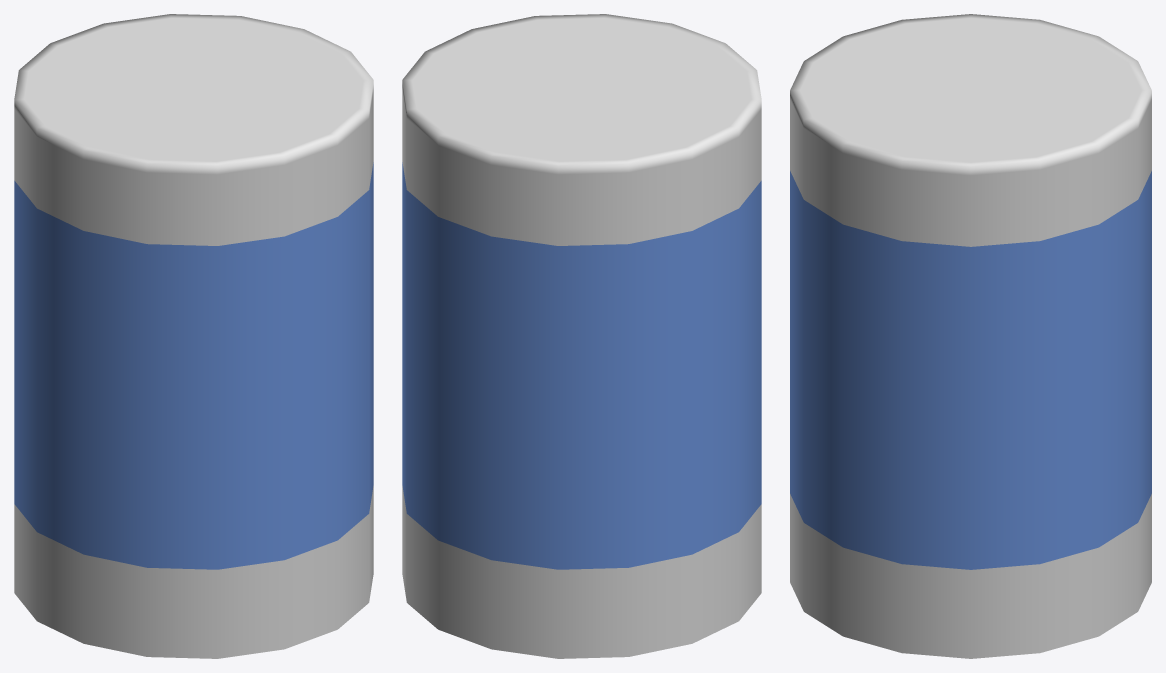
File: Obj_LavaLamp.fbx
3 renders of one model, left to right at view 1: azimuth 30°, elevation 25°; view 2: azimuth 150°, elevation 25°; view 3: azimuth 270°, elevation 25°, orthographic.
Visible parts, largest first — view 1: LavaLampCylinder; view 2: LavaLampCylinder; view 3: LavaLampCylinder.
Boxes of the visible parts, box(x1,y1,x2,y2) form: LavaLampCylinder: box(14, 14, 373, 658); LavaLampCylinder: box(402, 14, 761, 658); LavaLampCylinder: box(790, 14, 1151, 658).
Size of the model in its own units: 56 by 84 by 56.
